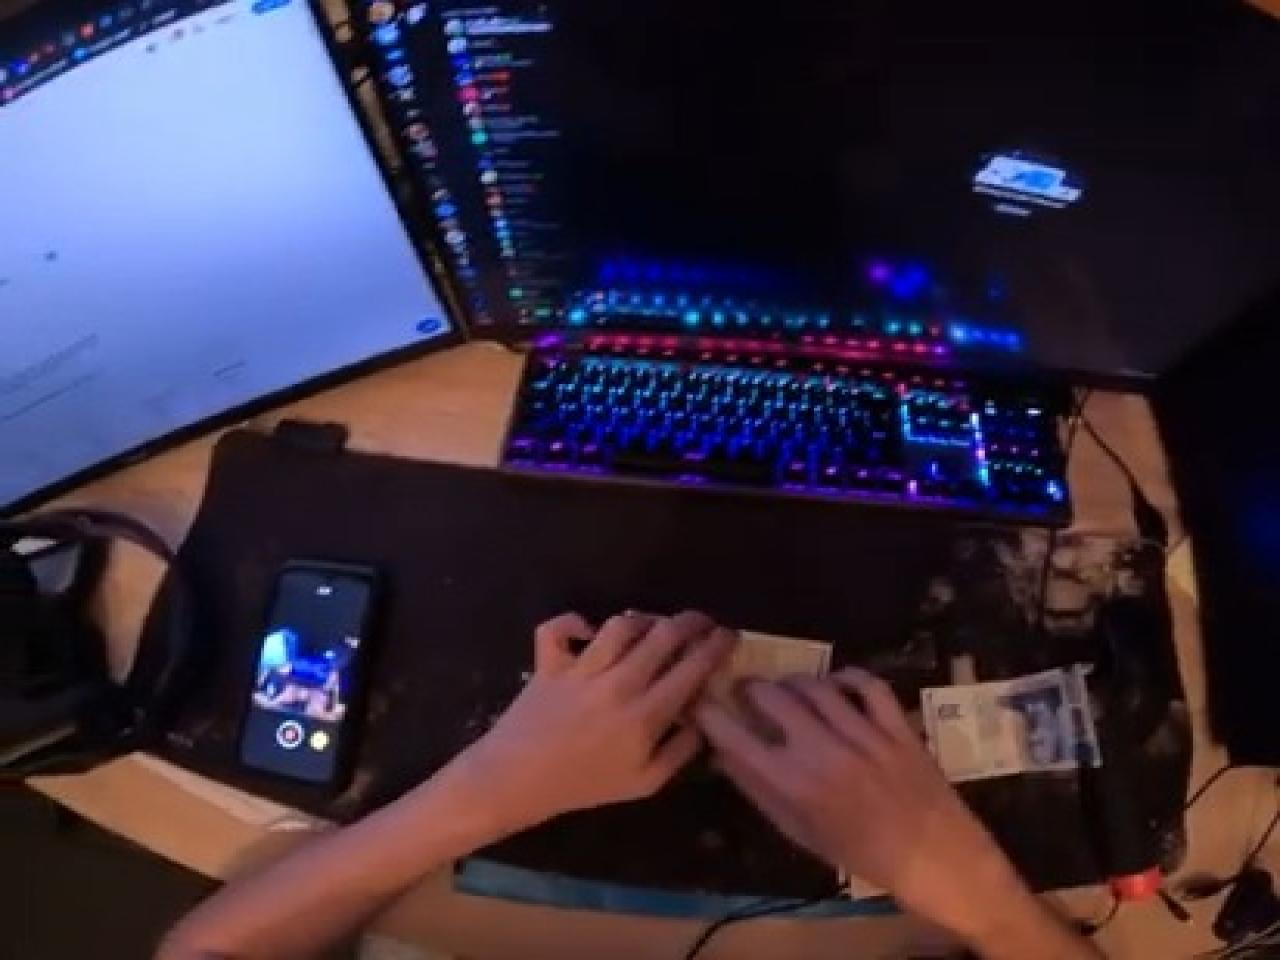50leva: (680, 642, 1100, 960)
